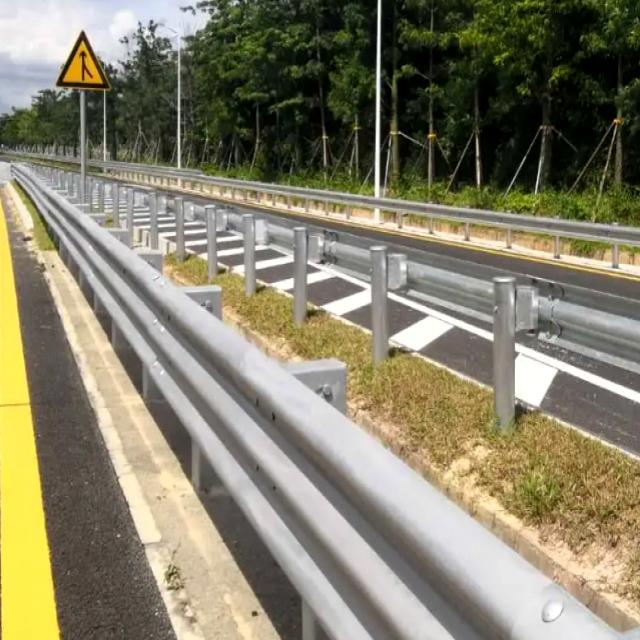Guard rail: (14, 167, 620, 637), (539, 296, 640, 349), (408, 262, 494, 311), (315, 237, 370, 274), (261, 223, 294, 247), (228, 212, 241, 232), (195, 205, 204, 217)
